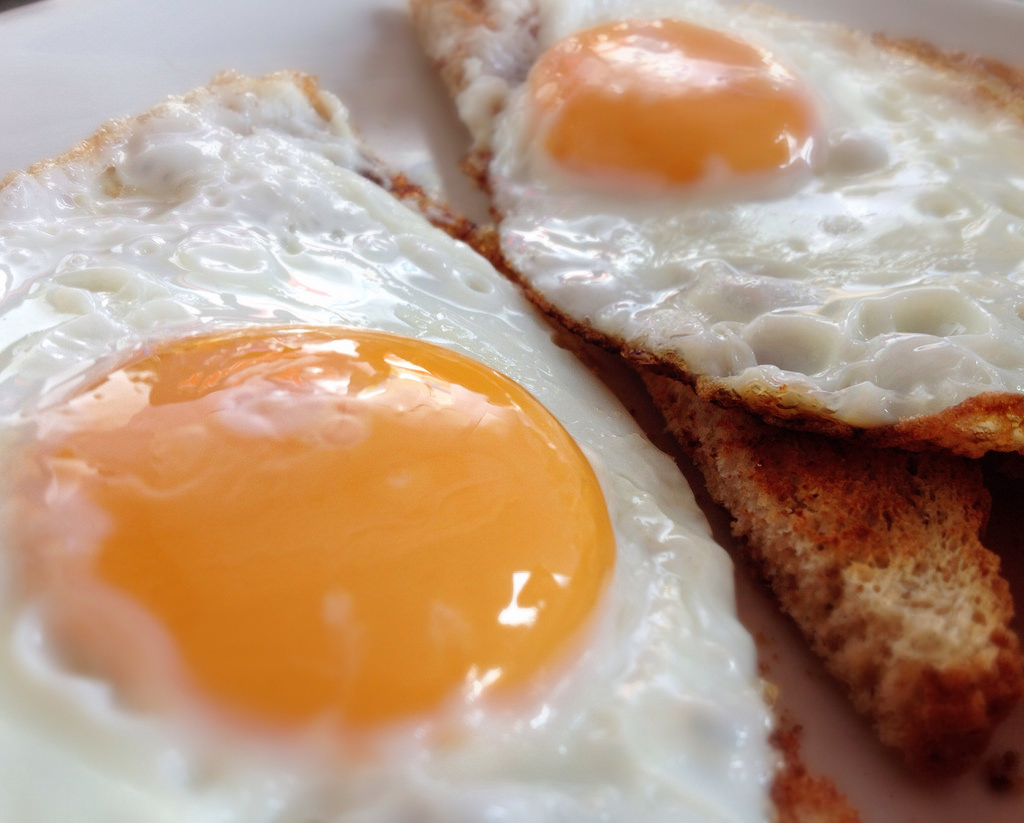fried egg: (5, 122, 719, 823), (445, 3, 1021, 415)
slice of bread: (689, 410, 1024, 761)
